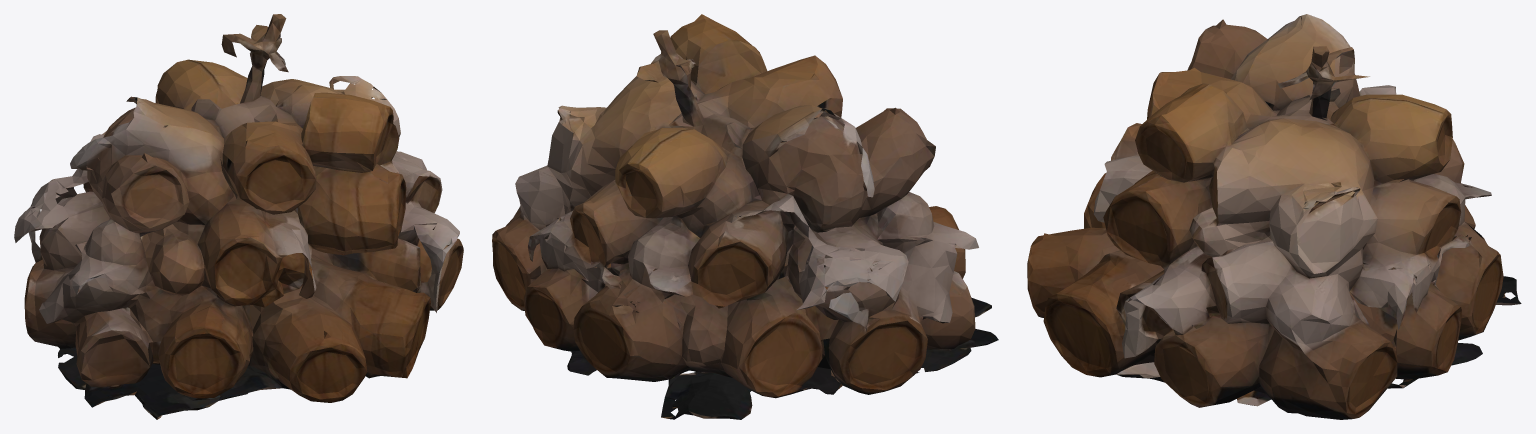
File: barrels.glb
3 views of the same model, side by side, from view 1: azimuth 30°, elevation 25°; view 2: azimuth 150°, elevation 25°; view 3: azimuth 270°, elevation 25° (orthographic). The views are drawn at different scales.
Visible parts, largest first — view 1: tmpxgtgp92m.ply; view 2: tmpxgtgp92m.ply; view 3: tmpxgtgp92m.ply.
Part boxes in pixels (box(x1,y1,x2,y2)): tmpxgtgp92m.ply: box(14, 14, 463, 419); tmpxgtgp92m.ply: box(492, 14, 998, 419); tmpxgtgp92m.ply: box(1027, 14, 1521, 419).
Size of the model in its own units: 1.98 by 1.35 by 1.91.
1 material, 1 textured.
